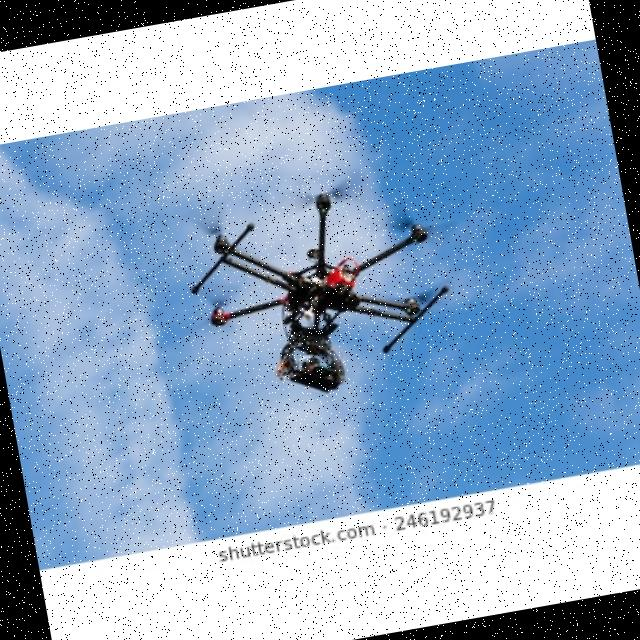Drones: (189, 172, 453, 408)
